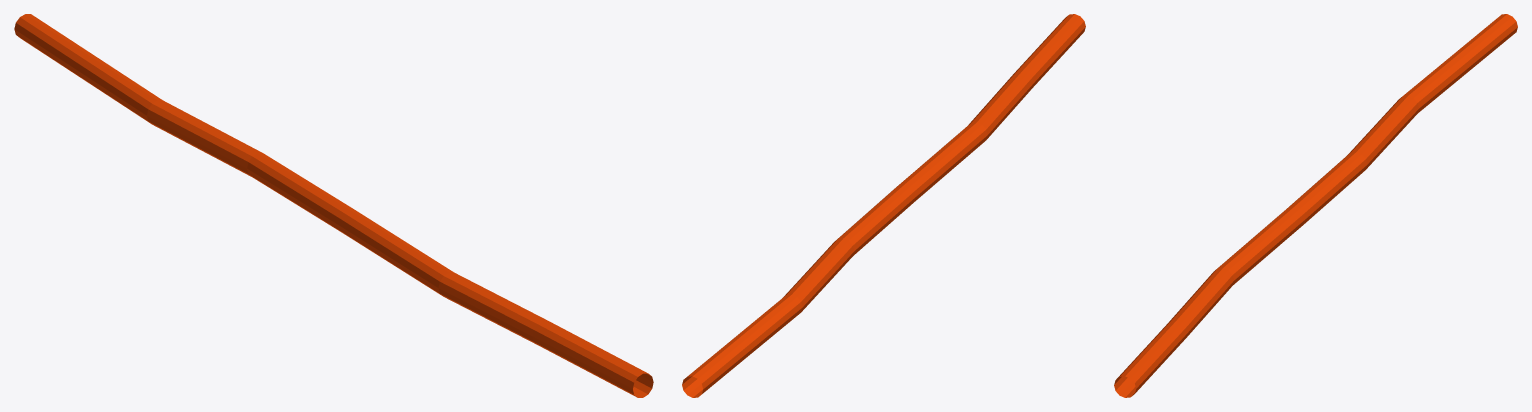
The model's file is Cable12.fbx.
The picture shows the model from 3 angles, left to right: view 1: azimuth 30°, elevation 25°; view 2: azimuth 150°, elevation 25°; view 3: azimuth 330°, elevation 25°; orthographic projection. The views are drawn at different scales.
Visible parts, largest first — view 1: Vert.011; view 2: Vert.011; view 3: Vert.011.
Part boxes in pixels (box(x1,y1,x2,y2)): Vert.011: box(14, 14, 653, 397); Vert.011: box(682, 14, 1085, 397); Vert.011: box(1114, 14, 1517, 397).
Bounding box in the file's own units: 10.19 × 2 × 78.58.
